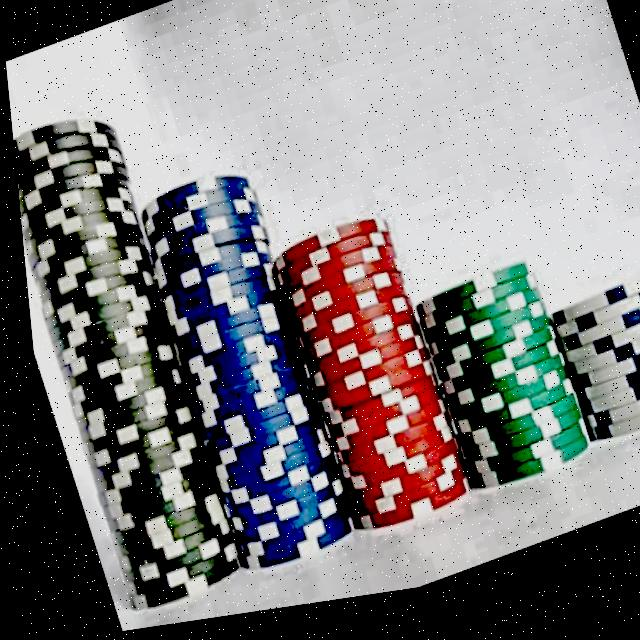Chip: (8, 82, 254, 633), (117, 156, 362, 599), (256, 205, 473, 561), (396, 256, 590, 522), (533, 275, 640, 477)
